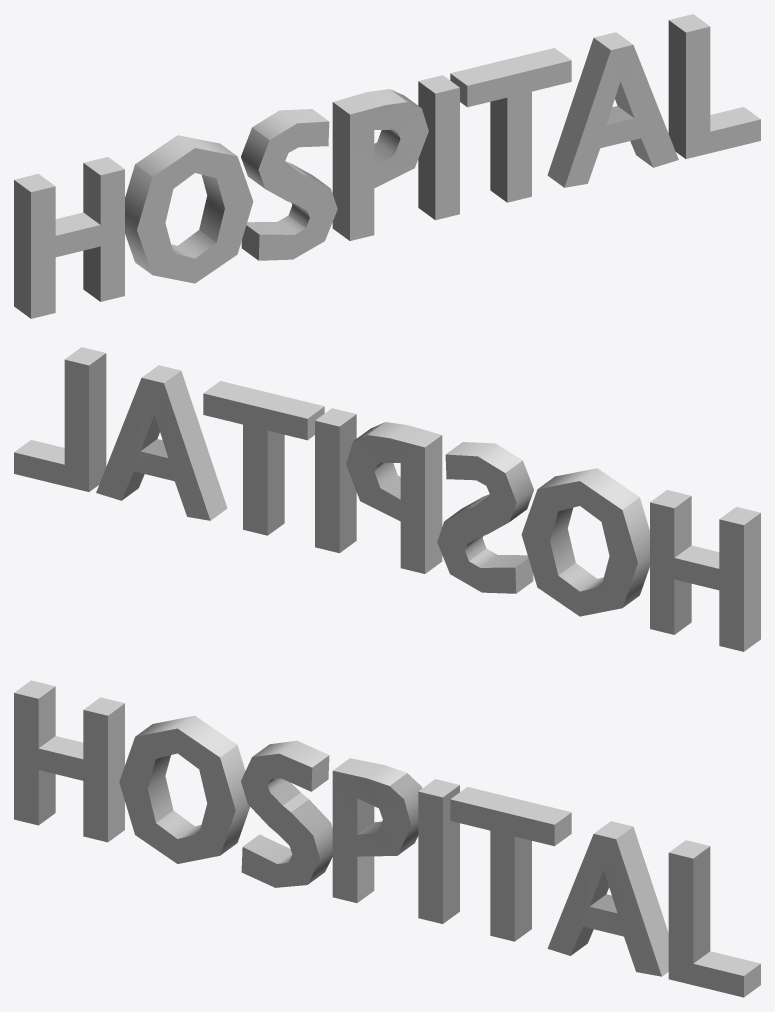
File: Sign_A1.fbx
3 renders of one model, top to bottom at view 1: azimuth 30°, elevation 25°; view 2: azimuth 150°, elevation 25°; view 3: azimuth 330°, elevation 25°, orthographic.
Parts seen in each view (by area): view 1: Sign_A1; view 2: Sign_A1; view 3: Sign_A1.
Part boxes in pixels (x1,y1,x2,y2): Sign_A1: [14, 14, 760, 318]; Sign_A1: [14, 347, 760, 651]; Sign_A1: [14, 680, 760, 997].
Bounding box in the file's own units: 581 × 103 × 24.89.
1 material, 1 textured.
